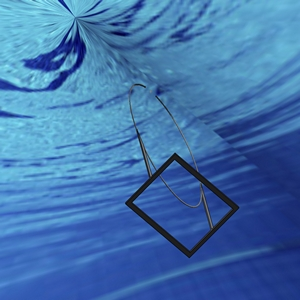circle: (124, 80, 239, 258)
